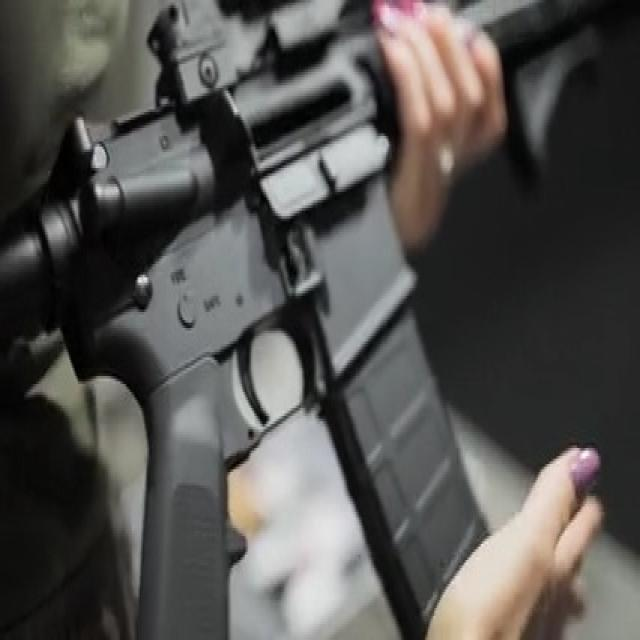Gun_Holder: (39, 18, 619, 640)
